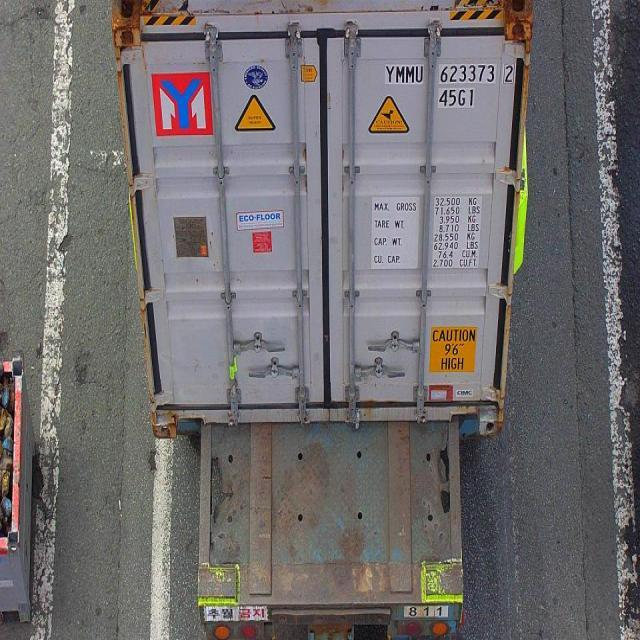ISO: (437, 89, 477, 108)
container_number: (384, 60, 516, 86)
